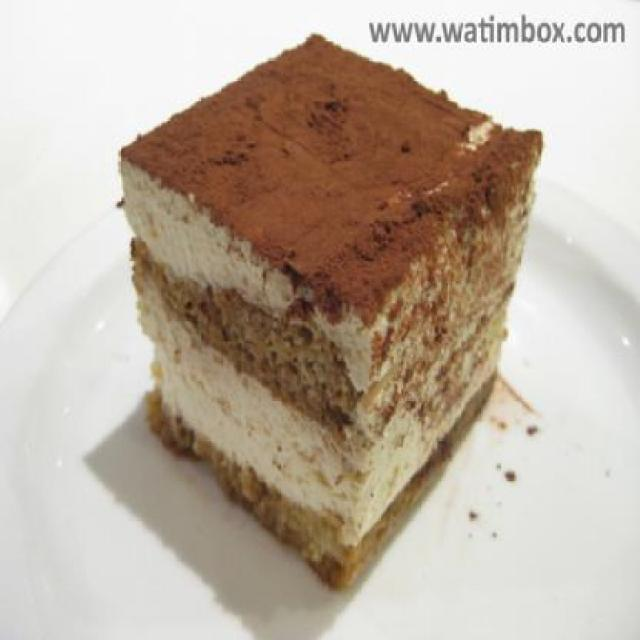Tiramisu: (124, 29, 534, 585)
